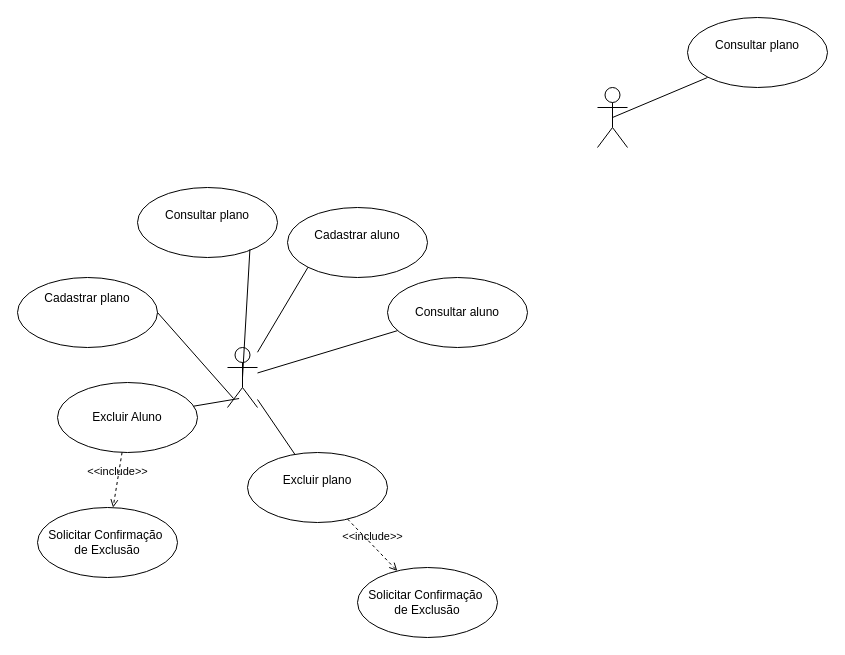
This 845x655 diagram has some shape labels left out. The shapes that lost their labels are listed below. From the top down, each one's centre as x and y in pixels, then its label:
At point (612, 117): "aluno".
At point (242, 377): "funcionário da academia".
